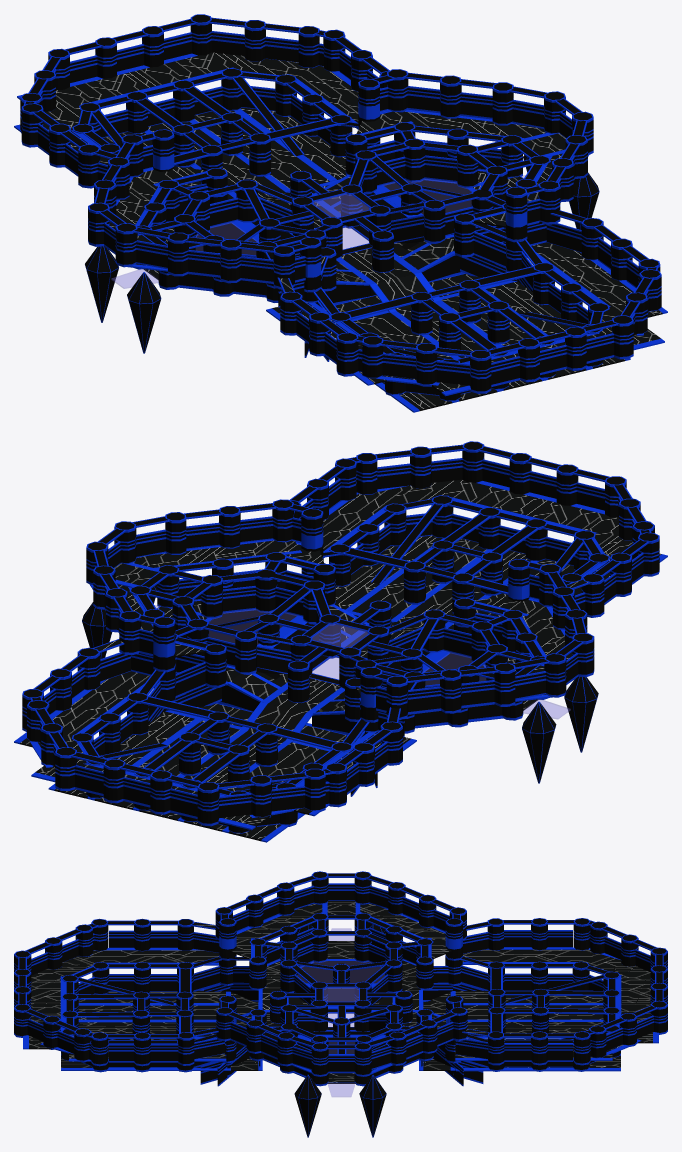
Rendered from Mitchell LVL 2.fbx.
3 renders of one model, top to bottom at view 1: azimuth 30°, elevation 25°; view 2: azimuth 150°, elevation 25°; view 3: azimuth 270°, elevation 25°, orthographic. The views are drawn at different scales.
Parts seen in each view (by area): view 1: polySurface1640, polySurface1738, polySurface1837, polySurface1230, polySurface860, pCylinder13, pCylinder12, pCylinder11; view 2: polySurface1738, polySurface1640, polySurface1837, polySurface1230, polySurface860, pCylinder12, pCylinder13, pCylinder10; view 3: polySurface1640, polySurface1738, polySurface1230, polySurface1837, polySurface860, pCylinder11, pCylinder10.
Part boxes in pixels (box(x1,y1,x2,y2)): polySurface1640: box(14, 14, 393, 199); polySurface1738: box(266, 210, 667, 412); polySurface1837: box(314, 69, 593, 281); polySurface1230: box(88, 129, 370, 357); polySurface860: box(262, 171, 516, 321); pCylinder13: box(127, 272, 161, 353); pCylinder12: box(85, 246, 118, 322); pCylinder11: box(569, 172, 599, 229); polySurface1738: box(289, 441, 667, 629); polySurface1640: box(14, 639, 416, 842); polySurface1837: box(86, 499, 367, 711); polySurface1230: box(312, 558, 594, 787); polySurface860: box(165, 600, 419, 751); pCylinder12: box(522, 701, 556, 783); pCylinder13: box(564, 676, 598, 752); pCylinder10: box(82, 602, 112, 658); polySurface1640: box(453, 918, 667, 1083); polySurface1738: box(14, 918, 230, 1084); polySurface1230: box(215, 871, 466, 1009); polySurface1837: box(216, 995, 467, 1086); polySurface860: box(226, 981, 455, 1070); pCylinder11: box(294, 1074, 321, 1137); pCylinder10: box(359, 1075, 386, 1137).
Bounding box in the file's own units: 137 × 33.65 × 212.
